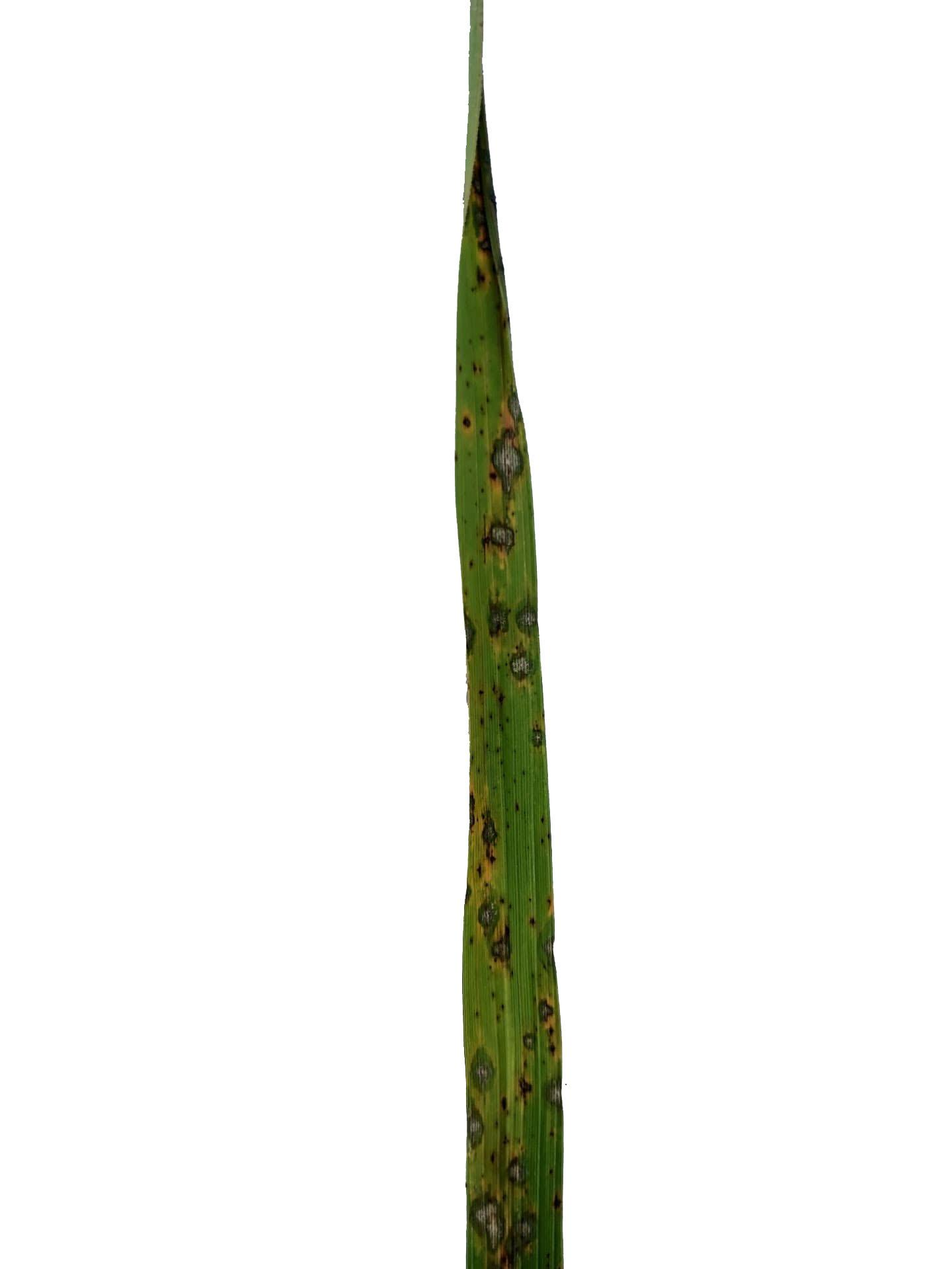Rice blast: (470, 1186, 511, 1262), (468, 162, 493, 262), (490, 425, 524, 494), (469, 1047, 509, 1098), (511, 1206, 547, 1259), (483, 926, 517, 976), (489, 520, 525, 565), (473, 889, 503, 937), (535, 997, 563, 1048), (478, 812, 501, 872), (519, 601, 543, 647), (471, 1100, 493, 1150), (508, 645, 532, 687), (501, 1156, 530, 1189), (483, 611, 511, 640), (522, 1026, 544, 1056), (547, 1078, 564, 1114), (514, 1079, 535, 1101)
